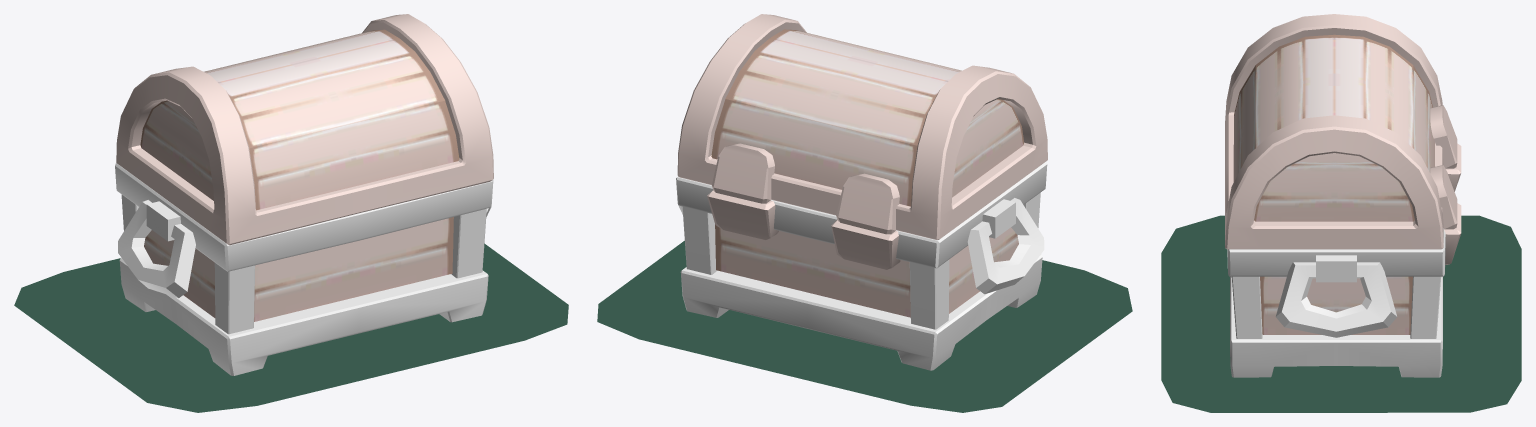
The model's file is CoopChestIsland.fbx.
3 renders of one model, left to right at view 1: azimuth 30°, elevation 25°; view 2: azimuth 150°, elevation 25°; view 3: azimuth 270°, elevation 25°, orthographic. The views are drawn at different scales.
Parts seen in each view (by area): view 1: ChestLid, ChestBody, ShadowSquare, CoopChestHandleR; view 2: ChestLid, ChestBody, ShadowSquare, CoopChestHandleR, BigChestLockTopR, BigChestLockTopL, BigChestLockBottomL, BigChestLockBottomR; view 3: ChestLid, ShadowSquare, ChestBody, CoopChestHandleL, BigChestLockTopR, BigChestLockTopL, BigChestLockBottomL, BigChestLockBottomR.
Boxes of the visible parts, x1,y1,x2,y2 form: ChestLid: [116, 14, 493, 245]; ChestBody: [115, 163, 493, 375]; ShadowSquare: [14, 243, 568, 412]; CoopChestHandleR: [118, 200, 195, 298]; ChestLid: [677, 14, 1047, 239]; ChestBody: [676, 162, 1047, 370]; ShadowSquare: [597, 241, 1132, 412]; CoopChestHandleR: [967, 198, 1044, 294]; BigChestLockTopR: [836, 173, 899, 234]; BigChestLockTopL: [712, 143, 774, 203]; BigChestLockBottomL: [707, 190, 778, 239]; BigChestLockBottomR: [831, 219, 900, 269]; ChestLid: [1225, 14, 1443, 249]; ShadowSquare: [1161, 215, 1521, 412]; ChestBody: [1227, 228, 1445, 377]; CoopChestHandleL: [1275, 262, 1397, 337]; BigChestLockTopR: [1430, 105, 1457, 168]; BigChestLockTopL: [1430, 165, 1457, 229]; BigChestLockBottomL: [1444, 203, 1461, 264]; BigChestLockBottomR: [1446, 143, 1461, 191].
Bounding box in the file's own units: 2.1 × 1.24 × 1.62.
